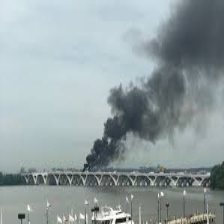smoke: (71, 1, 224, 166)
